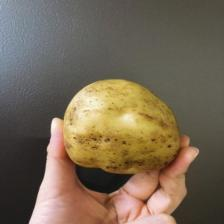Potato: (61, 78, 186, 175)
